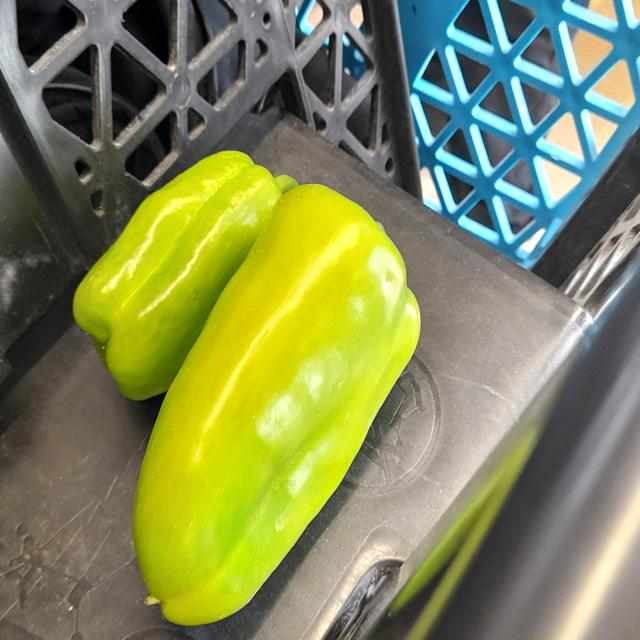bell pepper: (130, 194, 442, 622)
